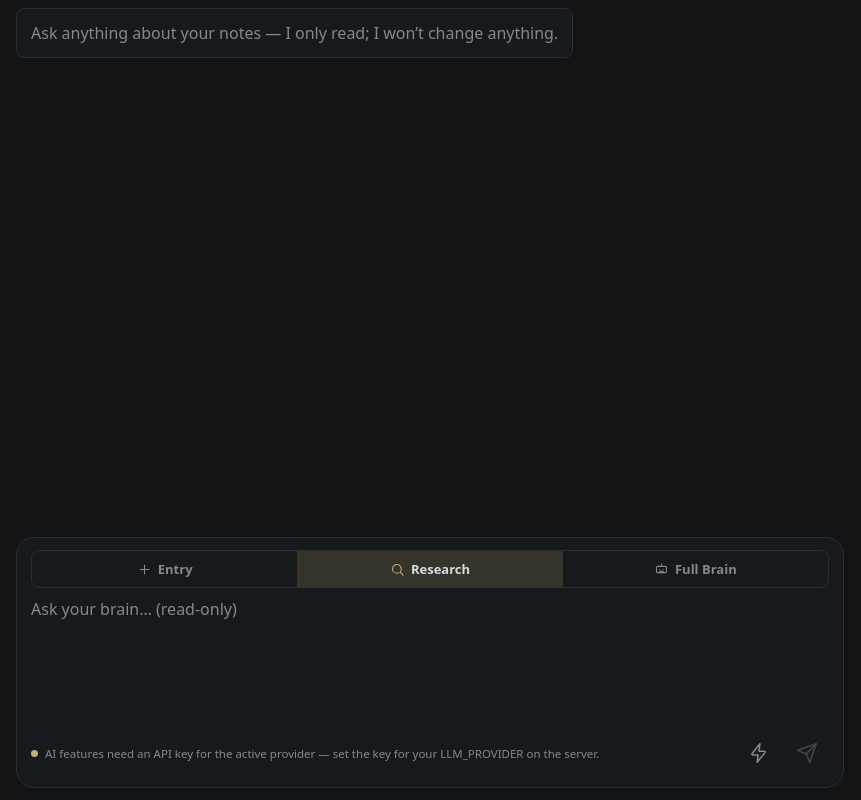
it: Chat — capability/mode gating › still allows Entry (a non-AI write) when the LLM is absent
The width and height of the screenshot is (861, 800).
Click the button "Entry": [165, 569] box [32,551,297,587]
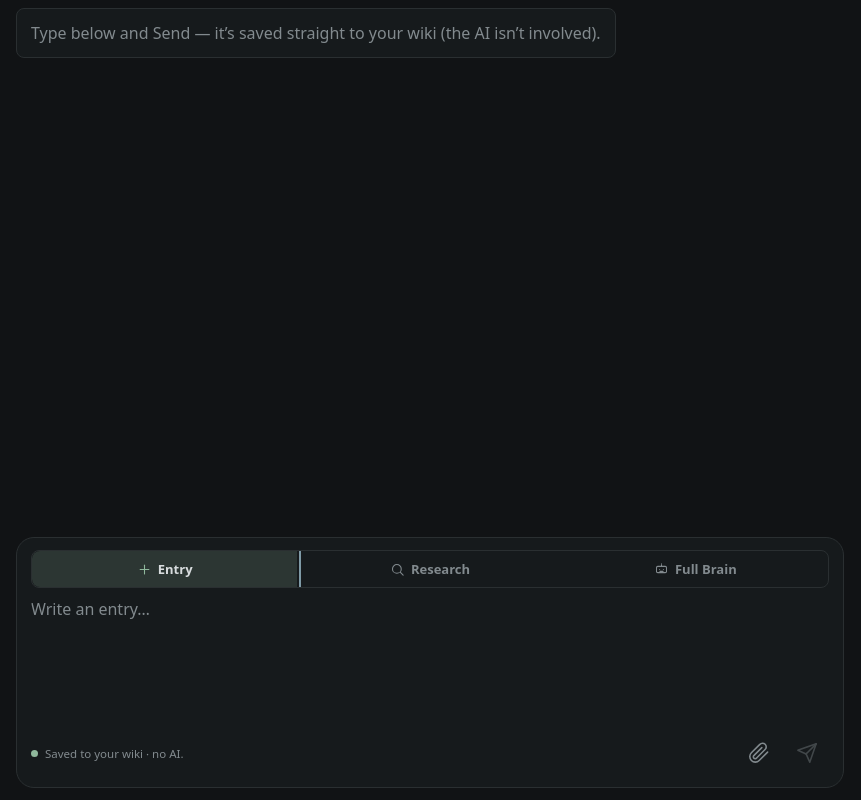
In the text box with placeholder "Write an entry…": [430, 658] box [31,598,829,718], type "offline note"
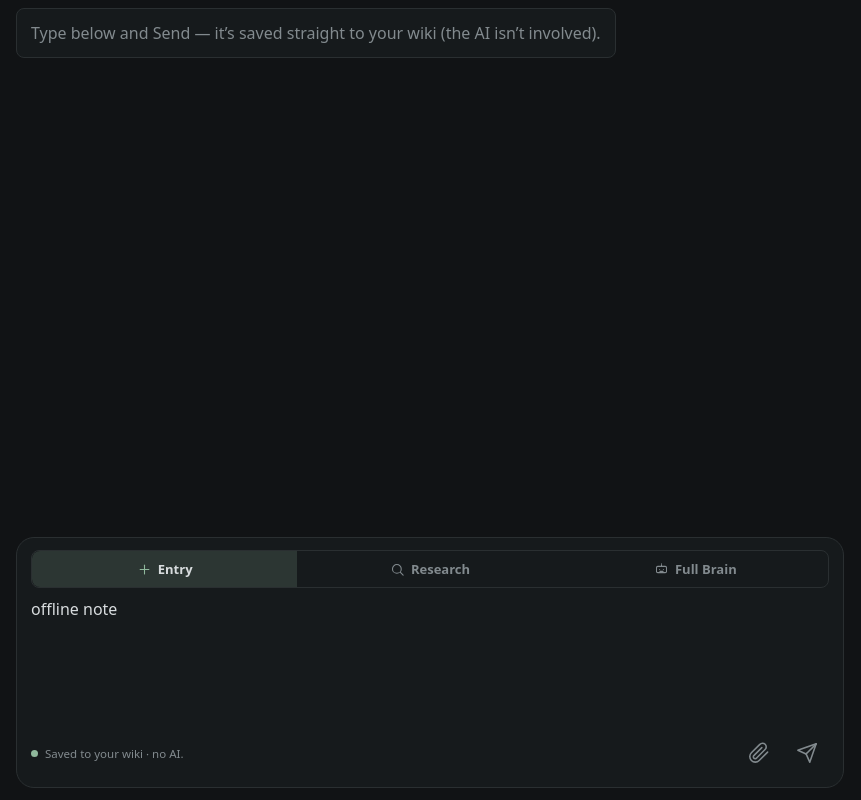
Now the button named "Send" is enabled
Click the button named "Send": [807, 753] box [785,731,829,775]
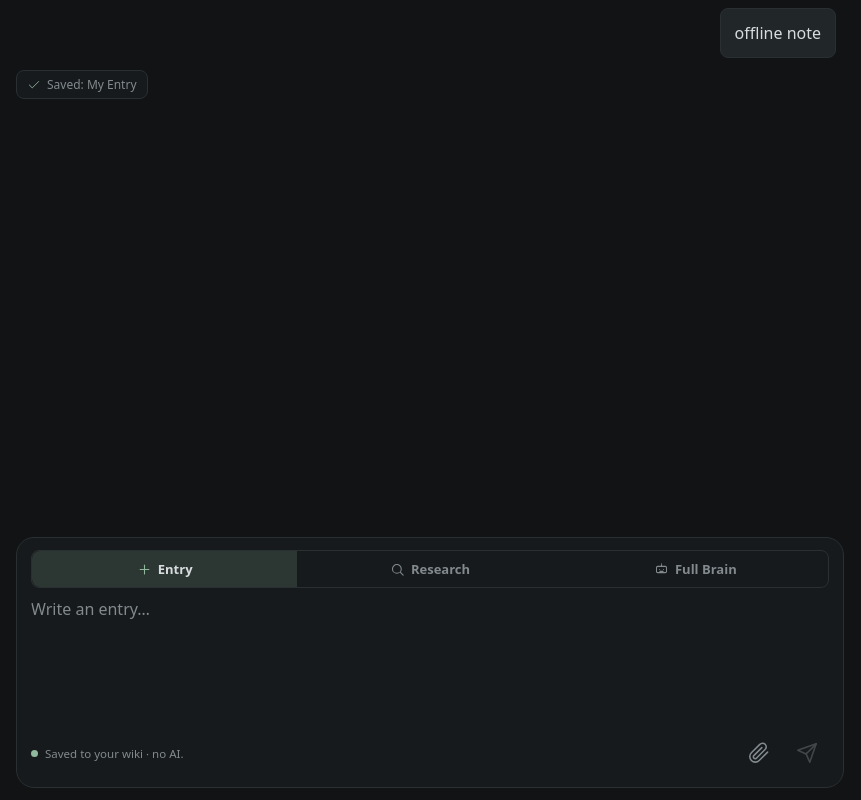
Now the text "offline note" is shown, box [720,8,836,58]
